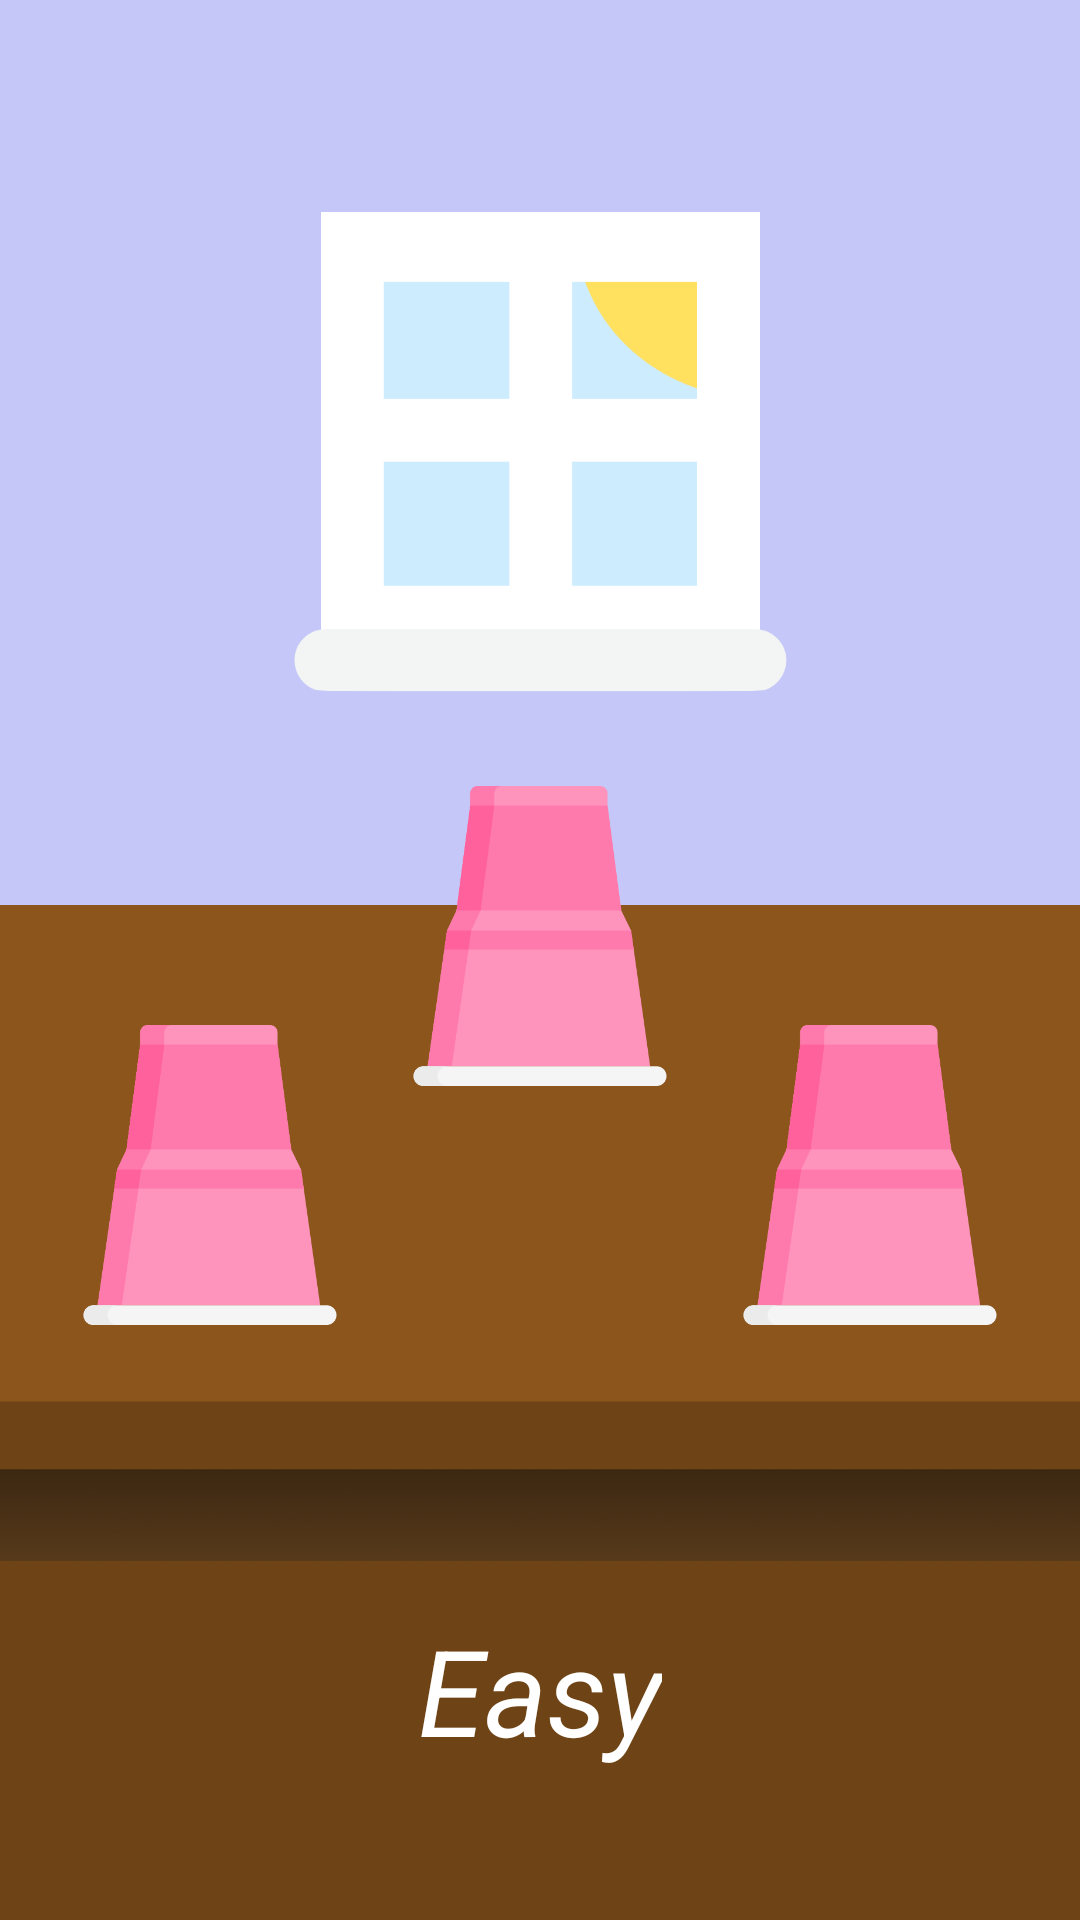

Icons on this 1080w x 1920h Android screen, each with the point to tap as [x,y]:
cup: [540,936], [210,1175], [870,1175]
